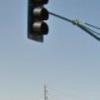traffic lights: (26, 0, 52, 44)
